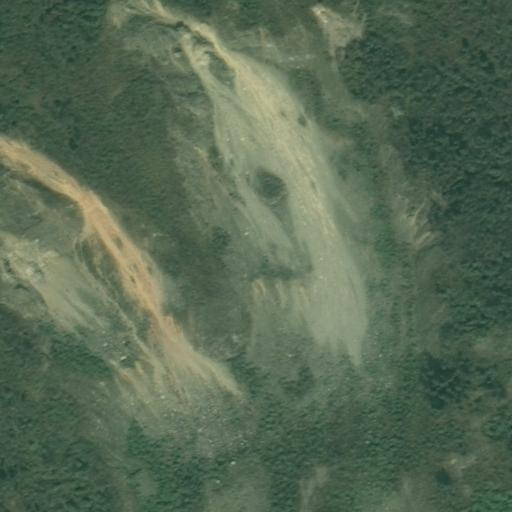landslide: (114, 1, 374, 367), (3, 131, 241, 418)
